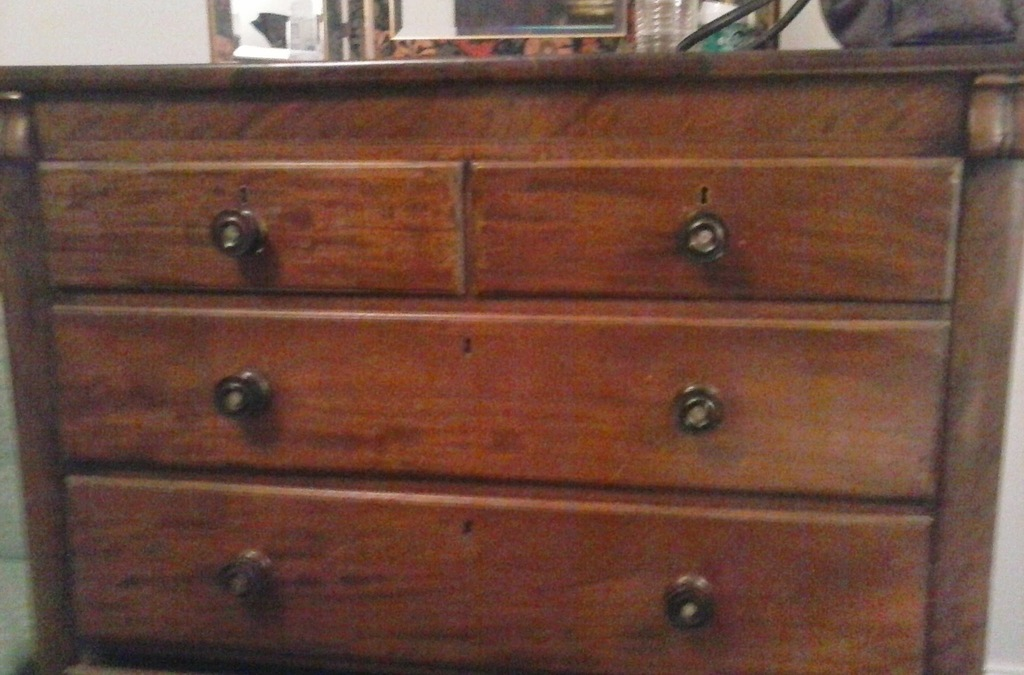cabinet door: (51, 302, 952, 508), (62, 472, 937, 675), (465, 163, 955, 299), (36, 158, 462, 294)
handle: (658, 573, 726, 638), (207, 203, 270, 266), (671, 383, 724, 444), (681, 210, 735, 269), (214, 553, 267, 607), (217, 373, 266, 417)
